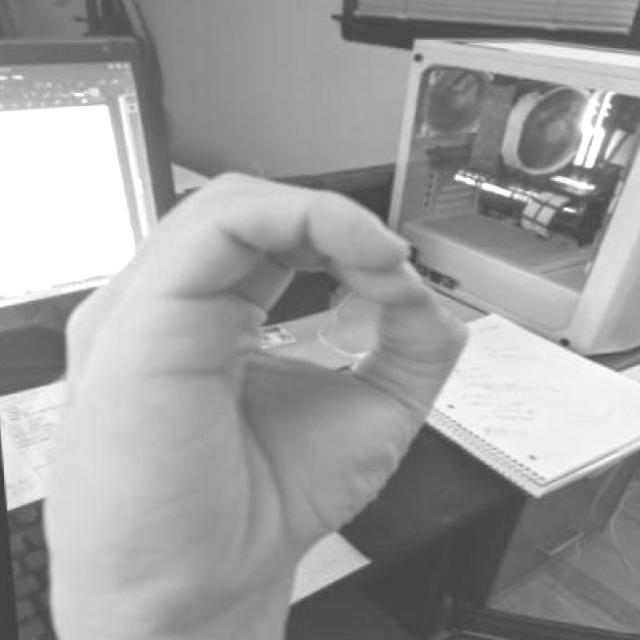O: (34, 158, 481, 614)
